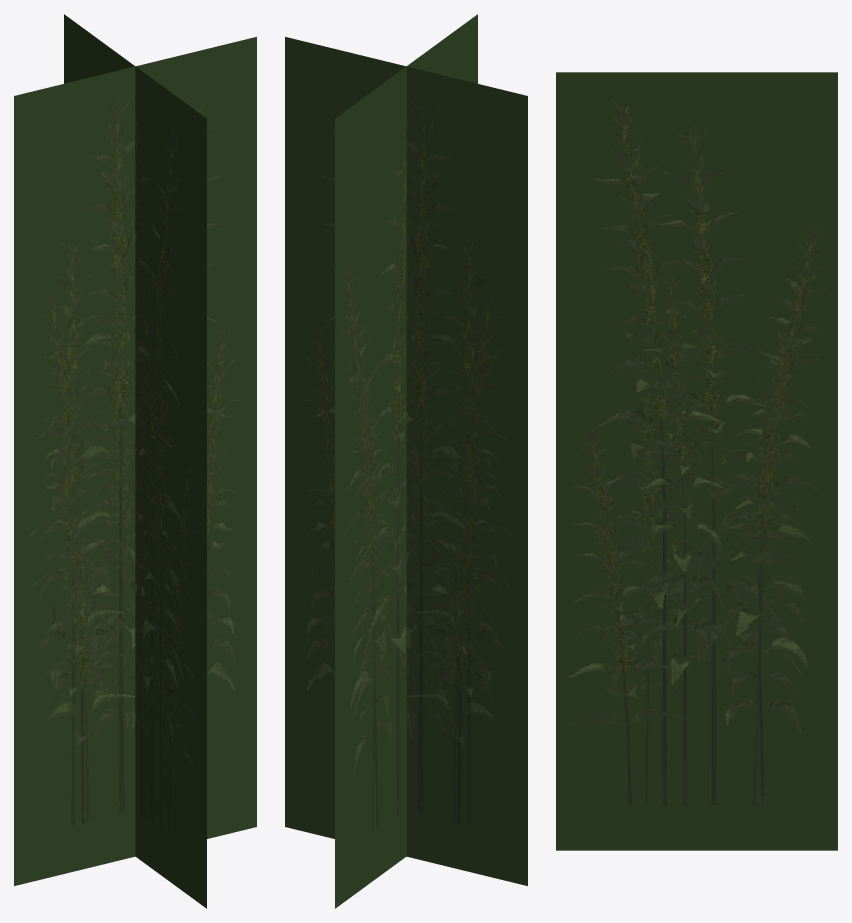
File: Nettle1_LOD03.fbx
3 views of the same model, side by side, from view 1: azimuth 30°, elevation 25°; view 2: azimuth 150°, elevation 25°; view 3: azimuth 270°, elevation 25° (orthographic).
Parts seen in each view (by area): view 1: polySurface1120; view 2: polySurface1120; view 3: polySurface1120.
Part boxes in pixels (x1,y1,x2,y2): polySurface1120: [14, 14, 256, 908]; polySurface1120: [285, 14, 527, 908]; polySurface1120: [556, 72, 837, 850].
Size of the model in its own units: 116 by 360 by 118.
